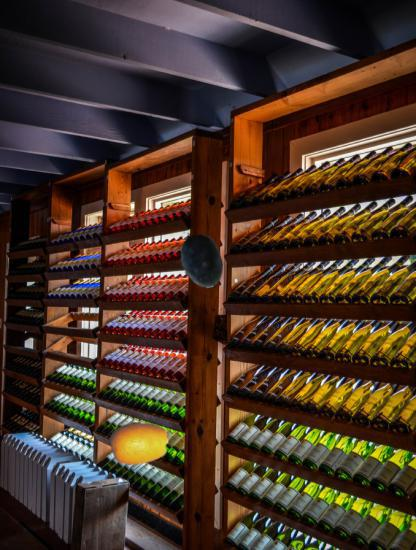Blueberry: (175, 235, 229, 289)
Kumquats: (109, 414, 169, 474)
